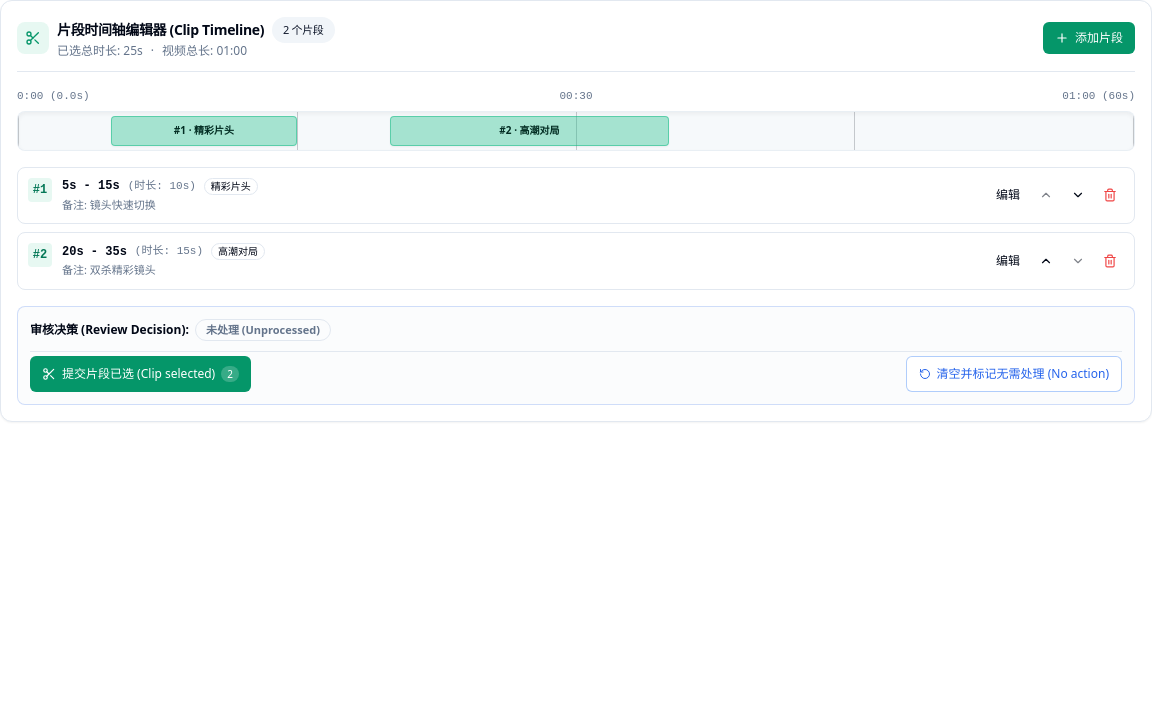
Test case: ClipTimelineEditor Component › validates bounds and blocks saving on invalid inputs: end <= start, negative, end > duration
Click the button with test id "add-clip-button". click: coordinates (1089, 38)
box: [1043,22,1135,54]
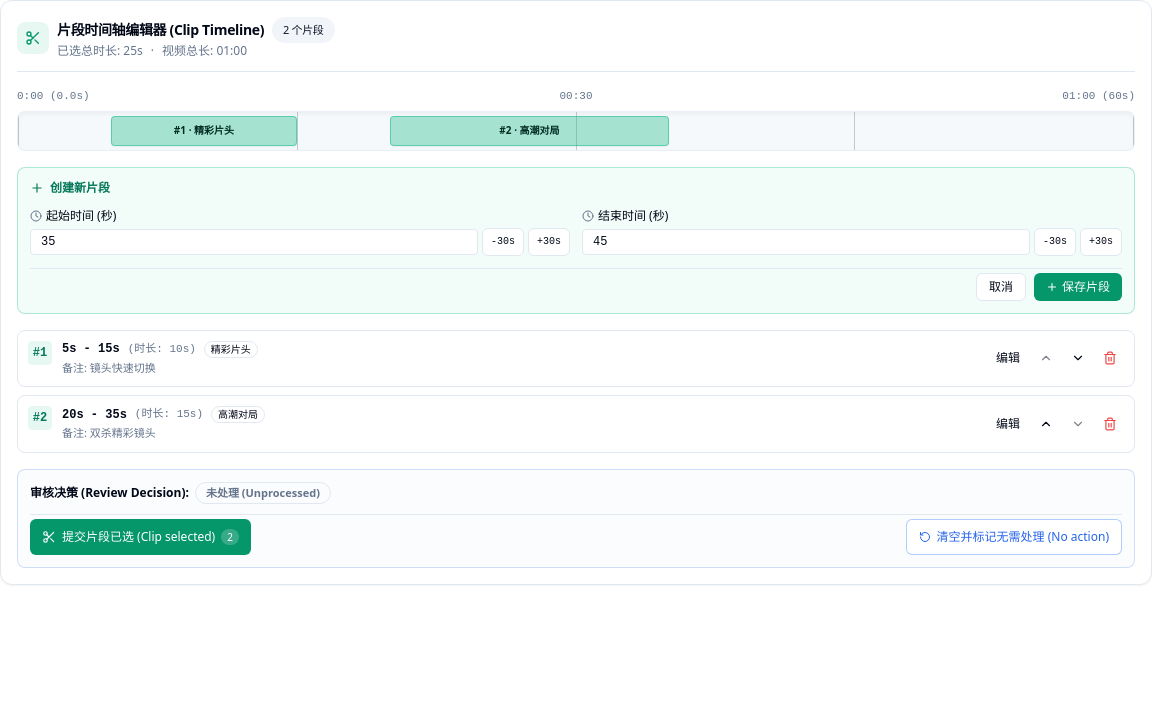
// 测试 1: 负数起始时间
Replace the text in the number field with test id "new-clip-start" with "-2". click: coordinates (254, 242)
box: [30,228,478,254]
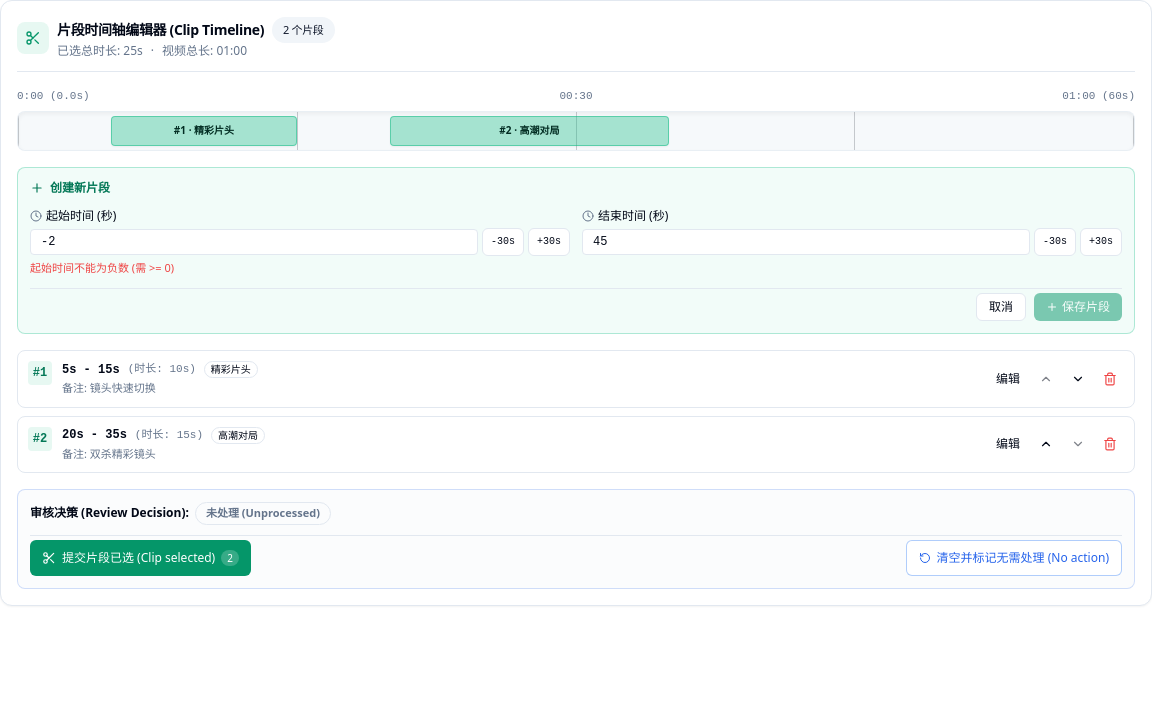
Expected: the text "起始时间不能为负数 (需 >= 0)" is shown, [30,260,174,274]
Expected: the button with test id "save-new-clip-button" is disabled, [1034,293,1122,321]
Replace the text in the number field with test id "new-clip-start" with "20". click: coordinates (254, 242)
box: [30,228,478,254]
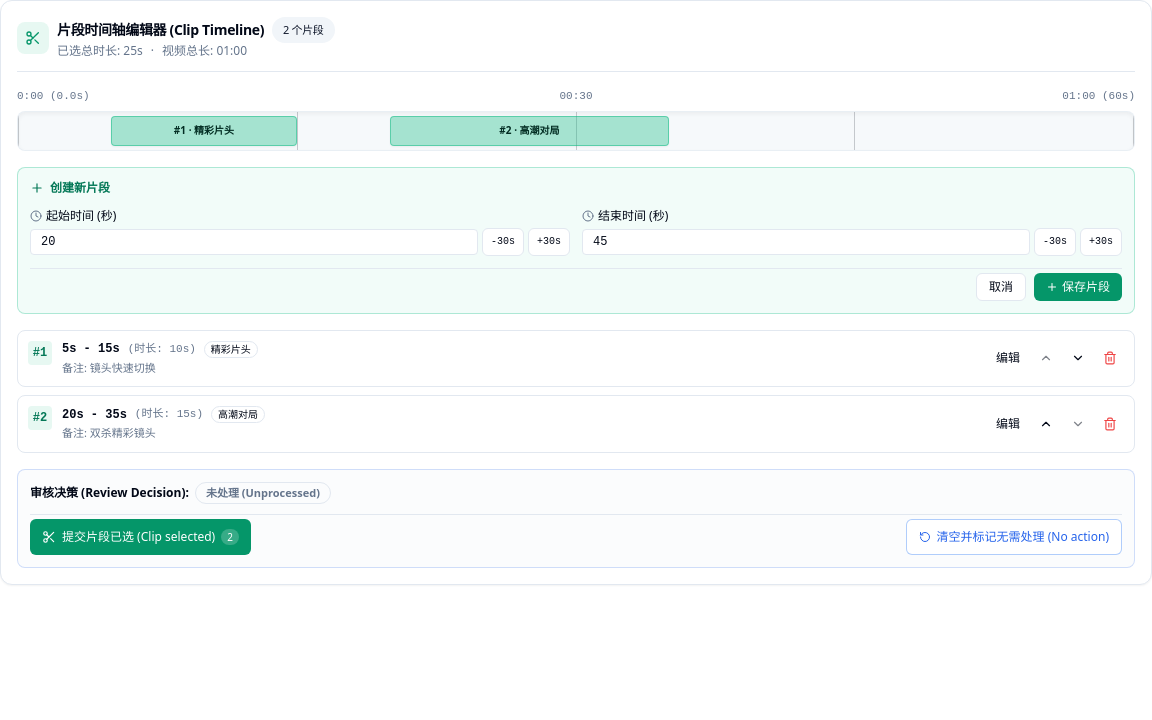
Replace the text in the number field with test id "new-clip-end" with "15". click: coordinates (806, 242)
box: [582,228,1030,254]
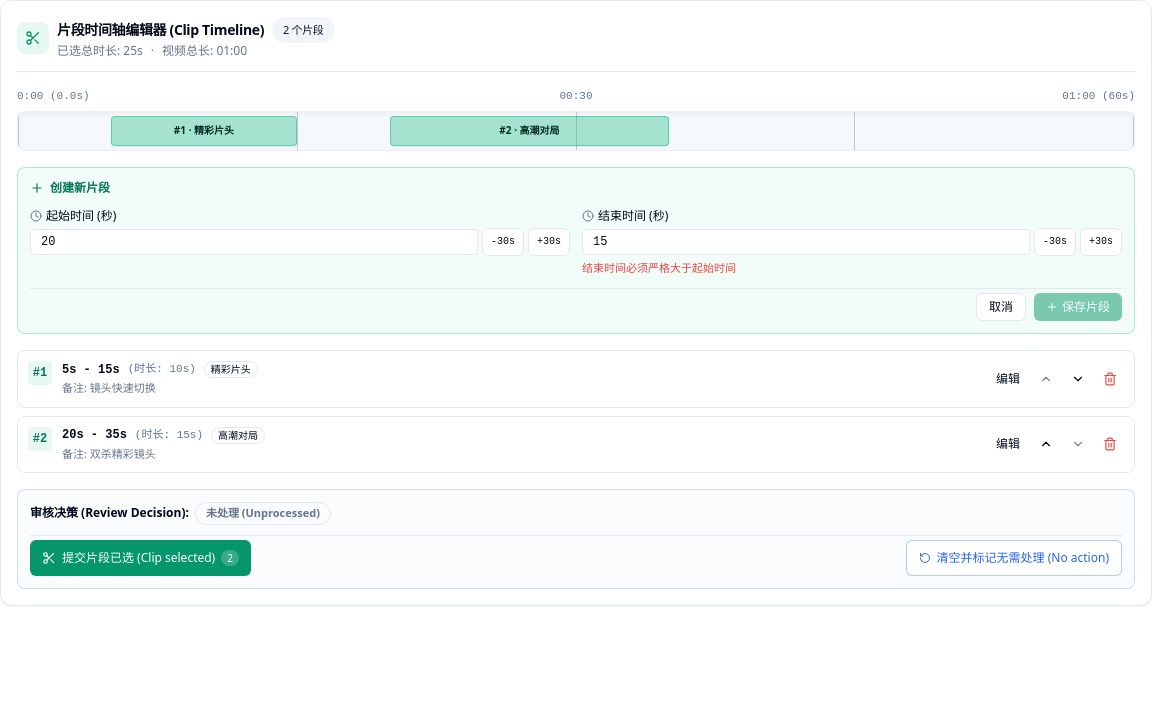
Expected: the text "结束时间必须严格大于起始时间" is shown, [582,260,736,274]
Expected: the button with test id "save-new-clip-button" is disabled, [1034,293,1122,321]
// 测试 3: 结束时间超过视频时长 (60s)
Replace the text in the number field with test id "new-clip-start" with "50". click: coordinates (254, 242)
box: [30,228,478,254]
Replace the text in the number field with test id "new-clip-end" with "75". click: coordinates (806, 242)
box: [582,228,1030,254]
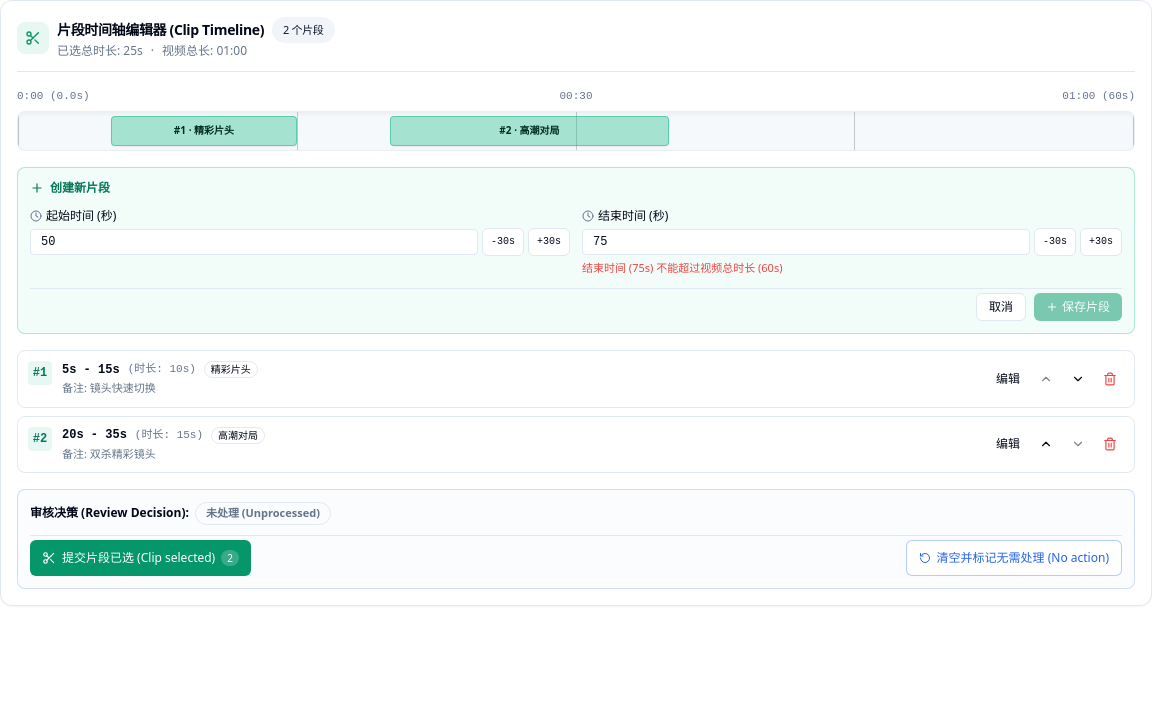
Expected: the button with test id "save-new-clip-button" is disabled, [1034,293,1122,321]
Expected: the text "结束时间 (75s) 不能超过视频总时长 (60s)" is shown, [582,260,782,274]
// 测试 4: 恢复合法值 (10s 到 25s)
Replace the text in the number field with test id "new-clip-start" with "10". click: coordinates (254, 242)
box: [30,228,478,254]
Replace the text in the number field with test id "new-clip-end" with "25". click: coordinates (806, 242)
box: [582,228,1030,254]
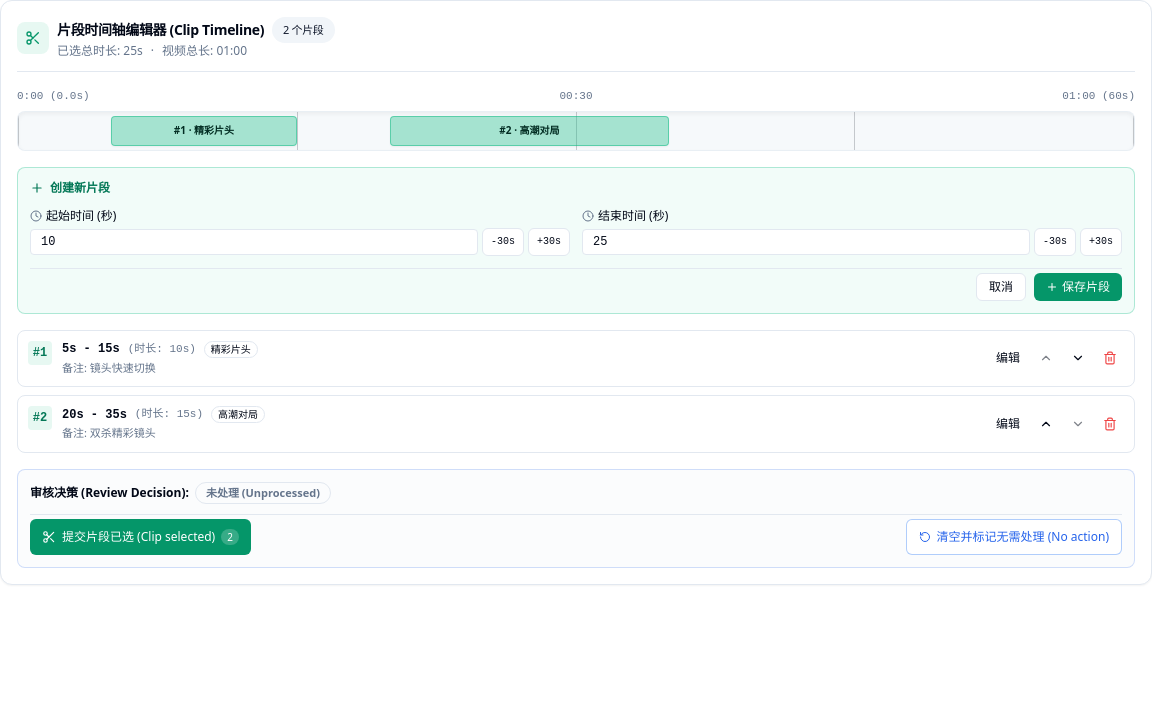
Expected: the button with test id "save-new-clip-button" is enabled, [1034,272,1122,300]
